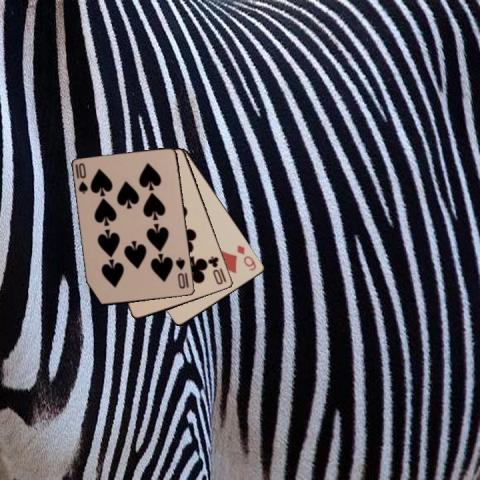10c: (205, 253, 228, 286)
10s: (172, 255, 186, 290), (76, 160, 89, 195)
6d: (234, 242, 258, 272)
